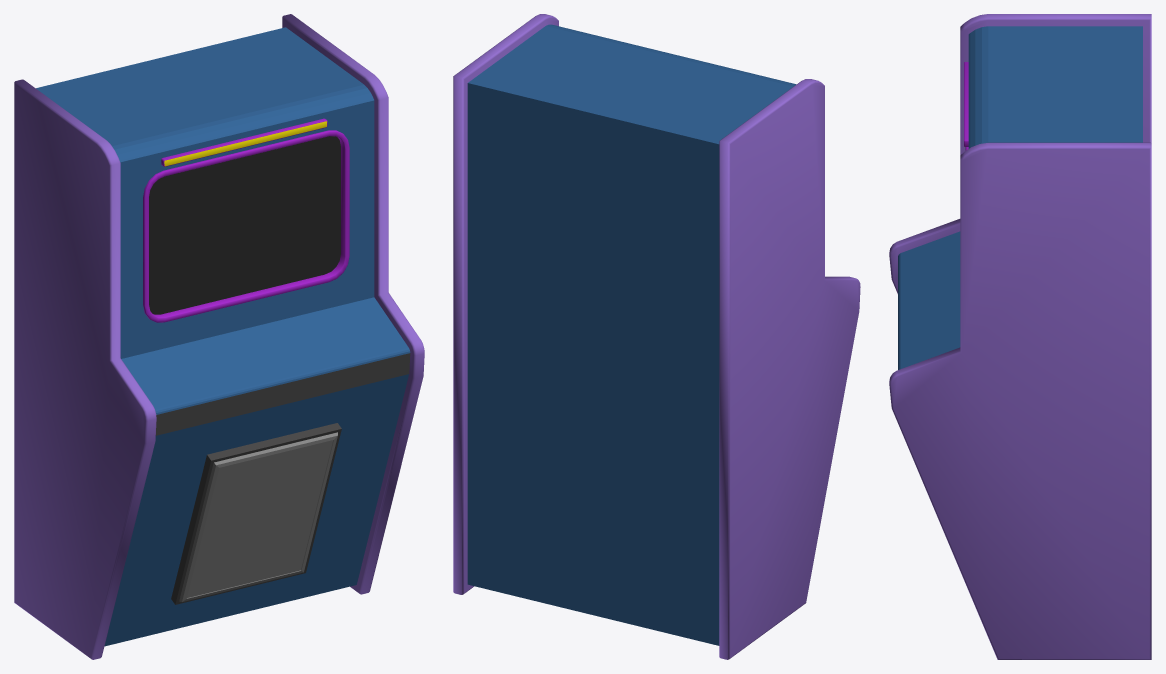
Rendered from Arcade.fbx.
The picture shows the model from 3 angles, left to right: view 1: azimuth 30°, elevation 25°; view 2: azimuth 150°, elevation 25°; view 3: azimuth 270°, elevation 25°; orthographic projection.
Parts seen in each view (by area): view 1: Arcade; view 2: Arcade; view 3: Arcade.
Boxes of the visible parts, x1=… form: Arcade: x1=14, y1=14, x2=424, y2=659; Arcade: x1=453, y1=14, x2=860, y2=659; Arcade: x1=889, y1=14, x2=1151, y2=659.
Size of the model in its own units: 4.46 by 7.97 by 3.69.
